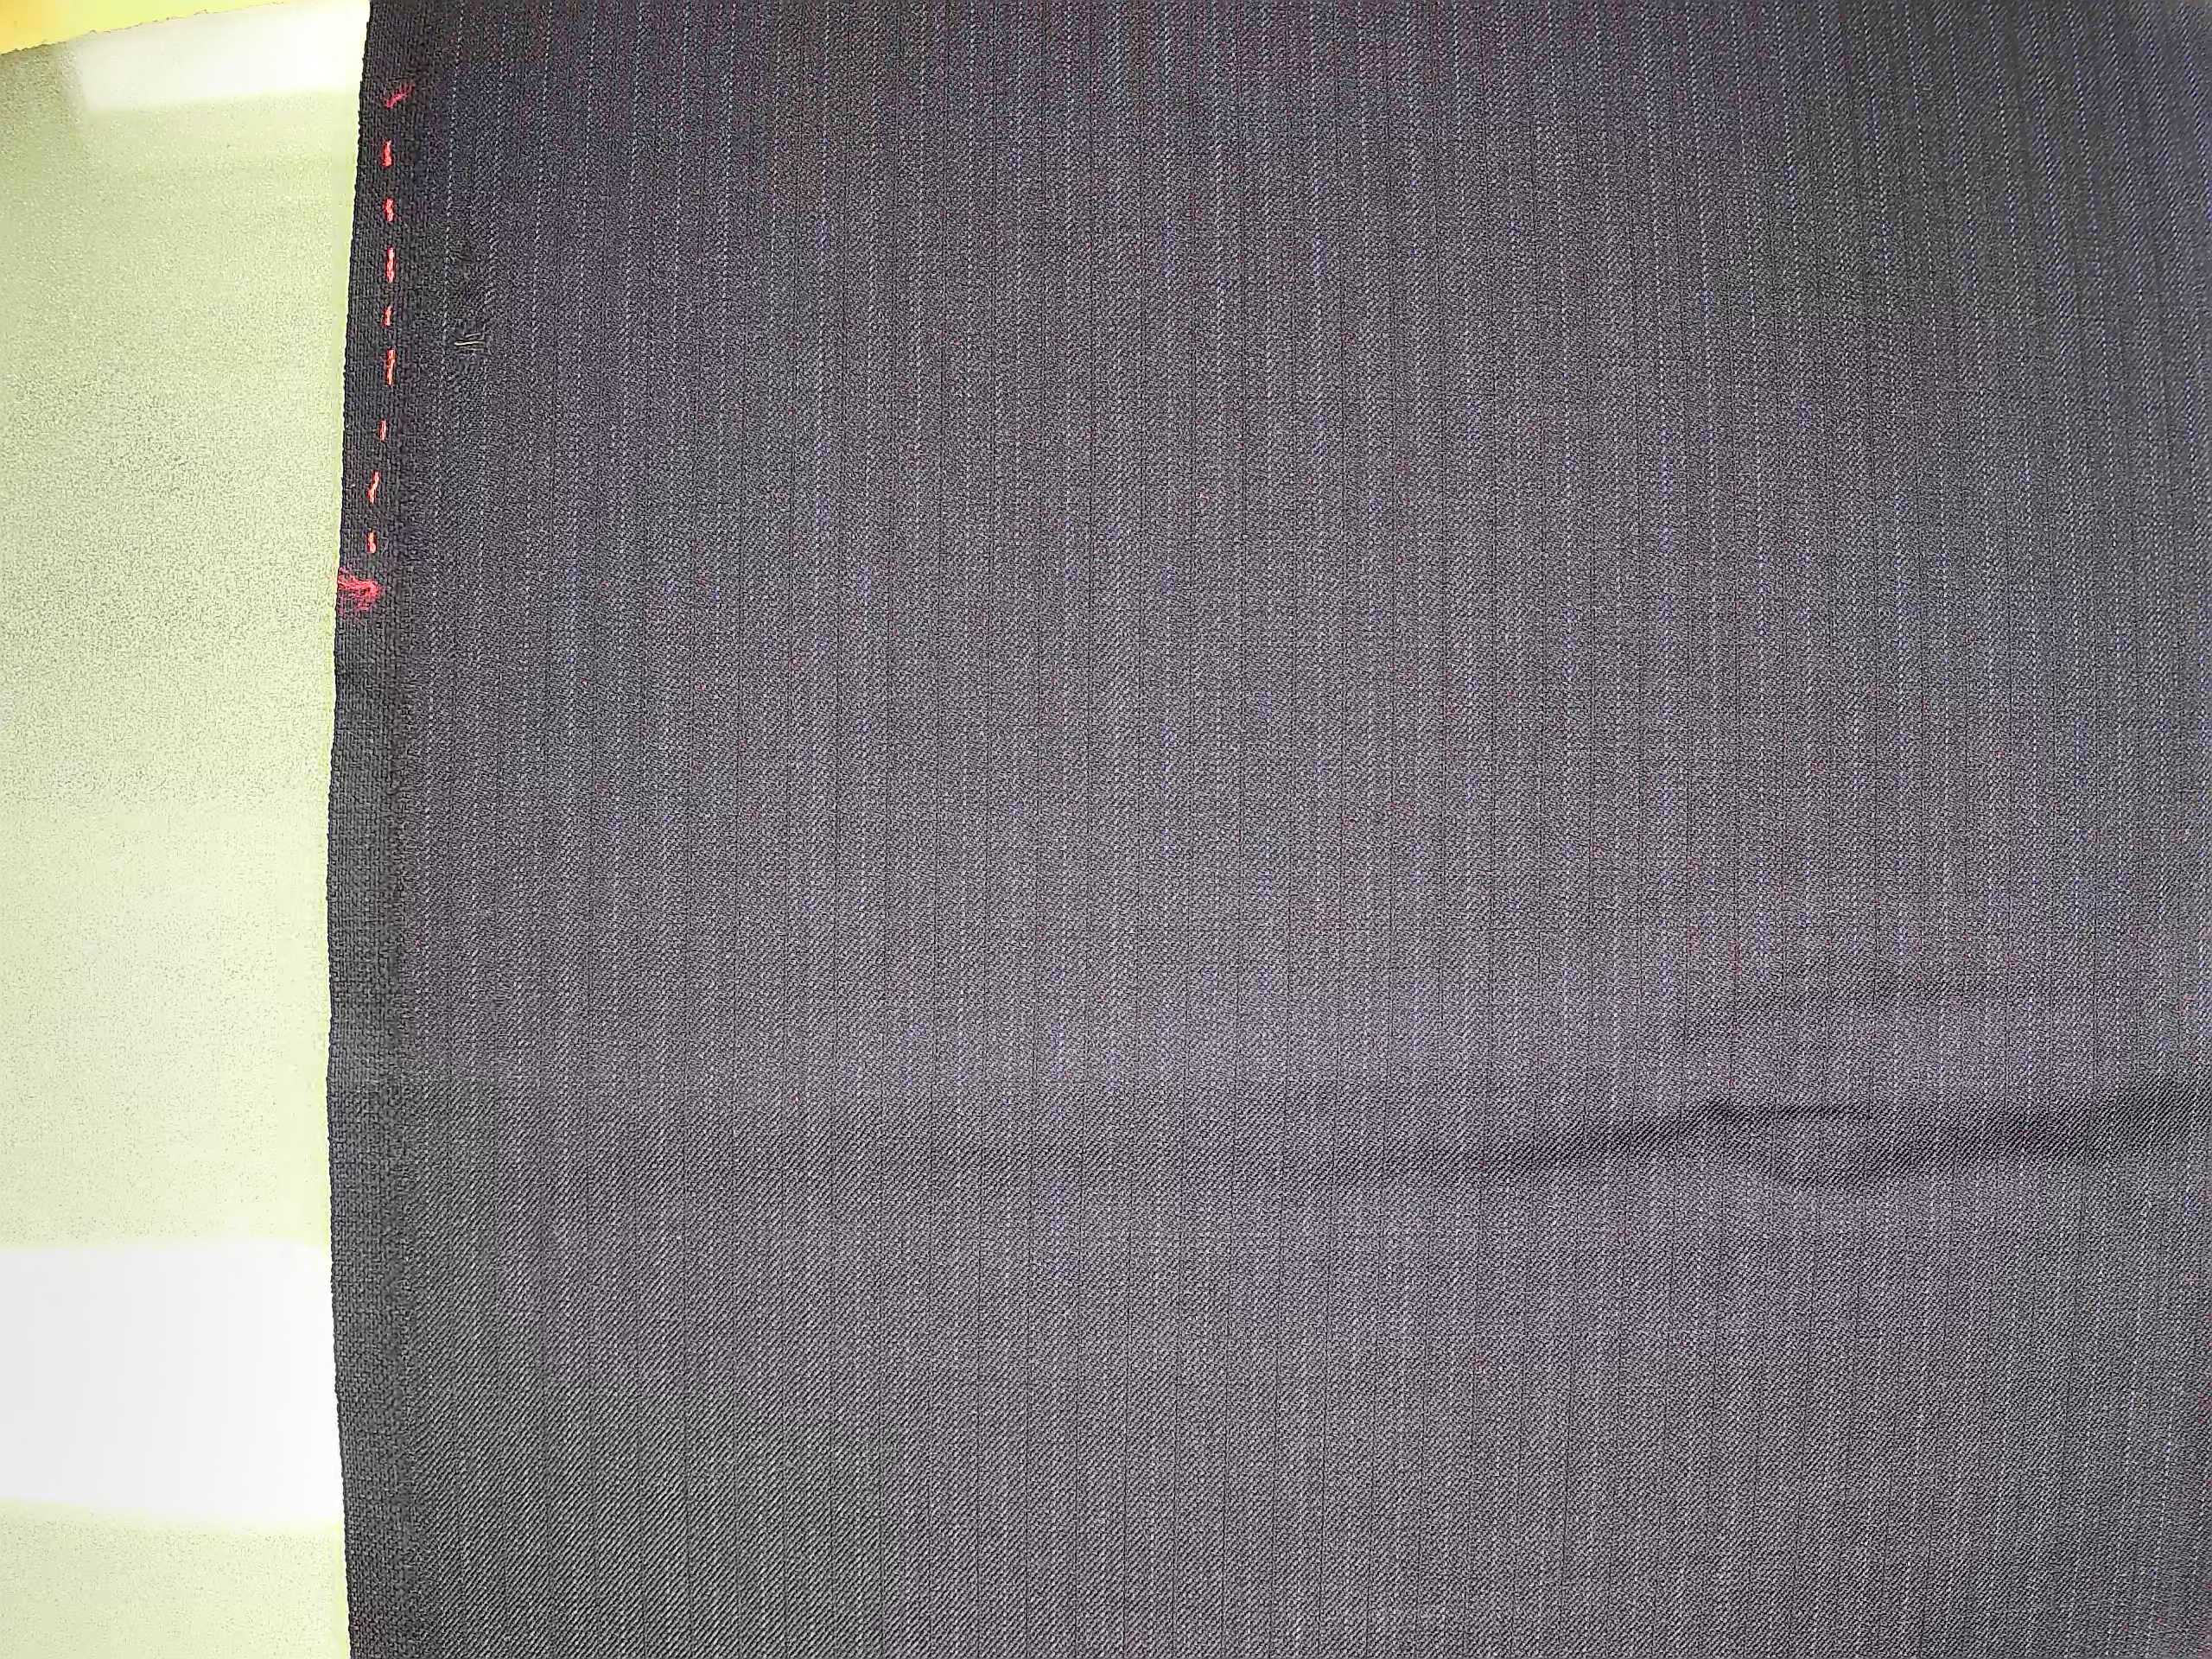brushed-hole: (434, 209, 512, 375)
